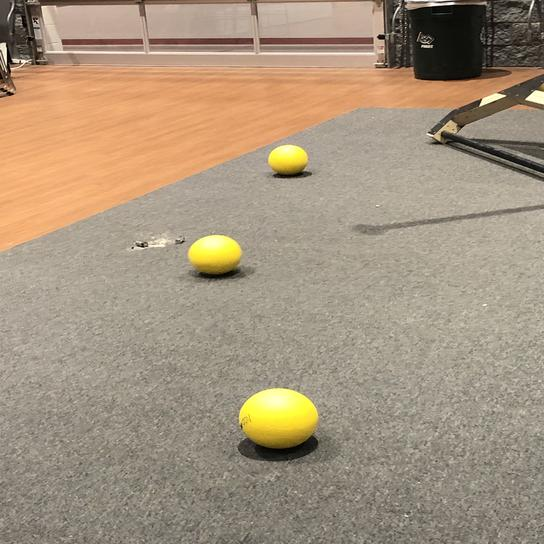ball: (237, 386, 321, 453), (187, 231, 244, 276), (265, 142, 312, 180)
